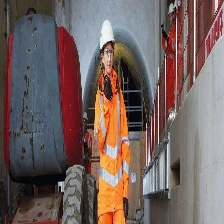helmet: (98, 19, 118, 53)
person: (93, 17, 131, 224)
vest: (92, 77, 129, 224)
